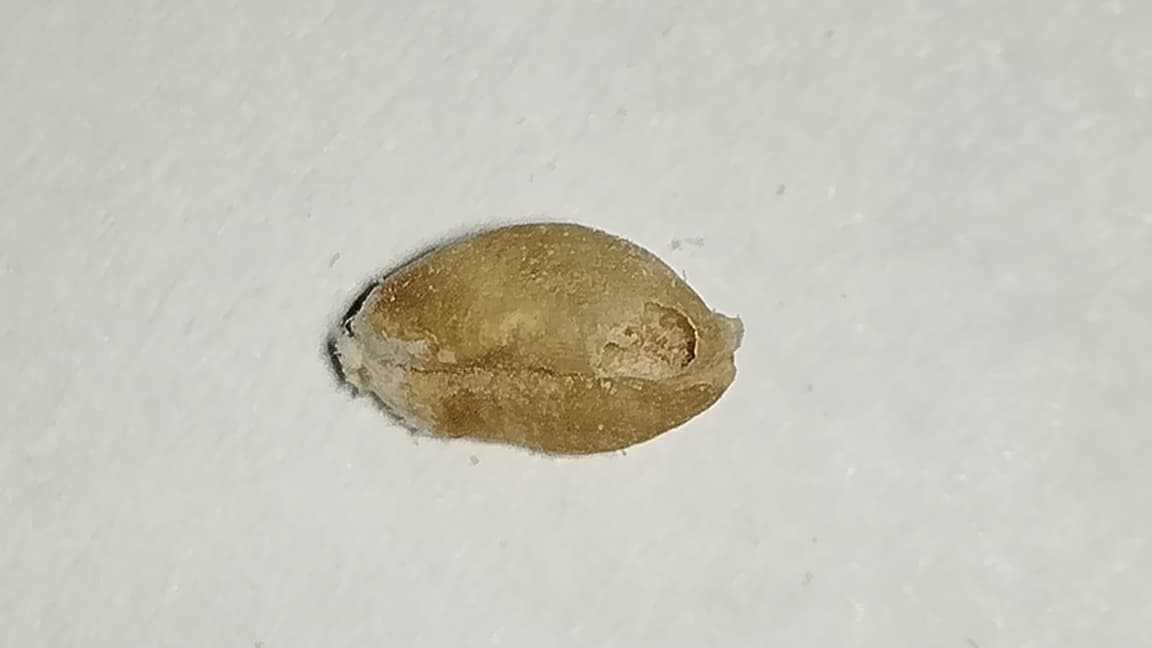damage: (336, 224, 741, 453)
insectdamage: (585, 286, 714, 389)
molddamage: (324, 285, 430, 432)
